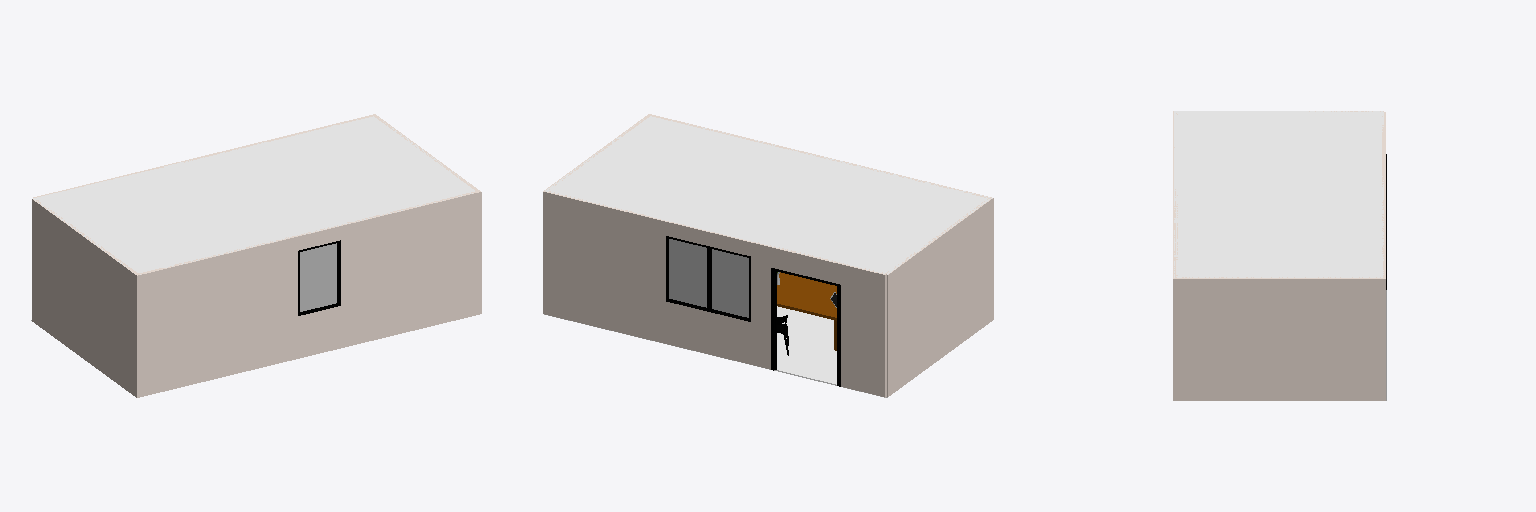
The model's file is escritorio.obj.
3 views of the same model, side by side, from view 1: azimuth 30°, elevation 25°; view 2: azimuth 150°, elevation 25°; view 3: azimuth 270°, elevation 25° (orthographic).
Parts seen in each view (by area): view 1: wall_3_16, room_5_27, wall_4_22, sweethome3d_window_pane_53; view 2: room_5_27, wall_1_4, wall_4_22, room_5_26, sweethome3d_window_pane_33, sweethome3d_window_pane_30, Plateau_50, Montant_34; view 3: room_5_27, wall_2_10.
Part boxes in pixels (x1,y1,x2,y2): wall_3_16: (137, 192, 481, 397); room_5_27: (33, 116, 474, 274); wall_4_22: (32, 199, 136, 397); sweethome3d_window_pane_53: (300, 243, 336, 311); room_5_27: (545, 116, 991, 274); wall_1_4: (543, 192, 886, 397); wall_4_22: (887, 198, 993, 396); room_5_26: (777, 306, 836, 384); sweethome3d_window_pane_33: (669, 239, 706, 307); sweethome3d_window_pane_30: (712, 249, 748, 317); Plateau_50: (777, 272, 836, 320); Montant_34: (771, 268, 840, 386); room_5_27: (1174, 111, 1383, 277); wall_2_10: (1173, 279, 1385, 400).
Size of the model in its own units: 736 by 250 by 395.